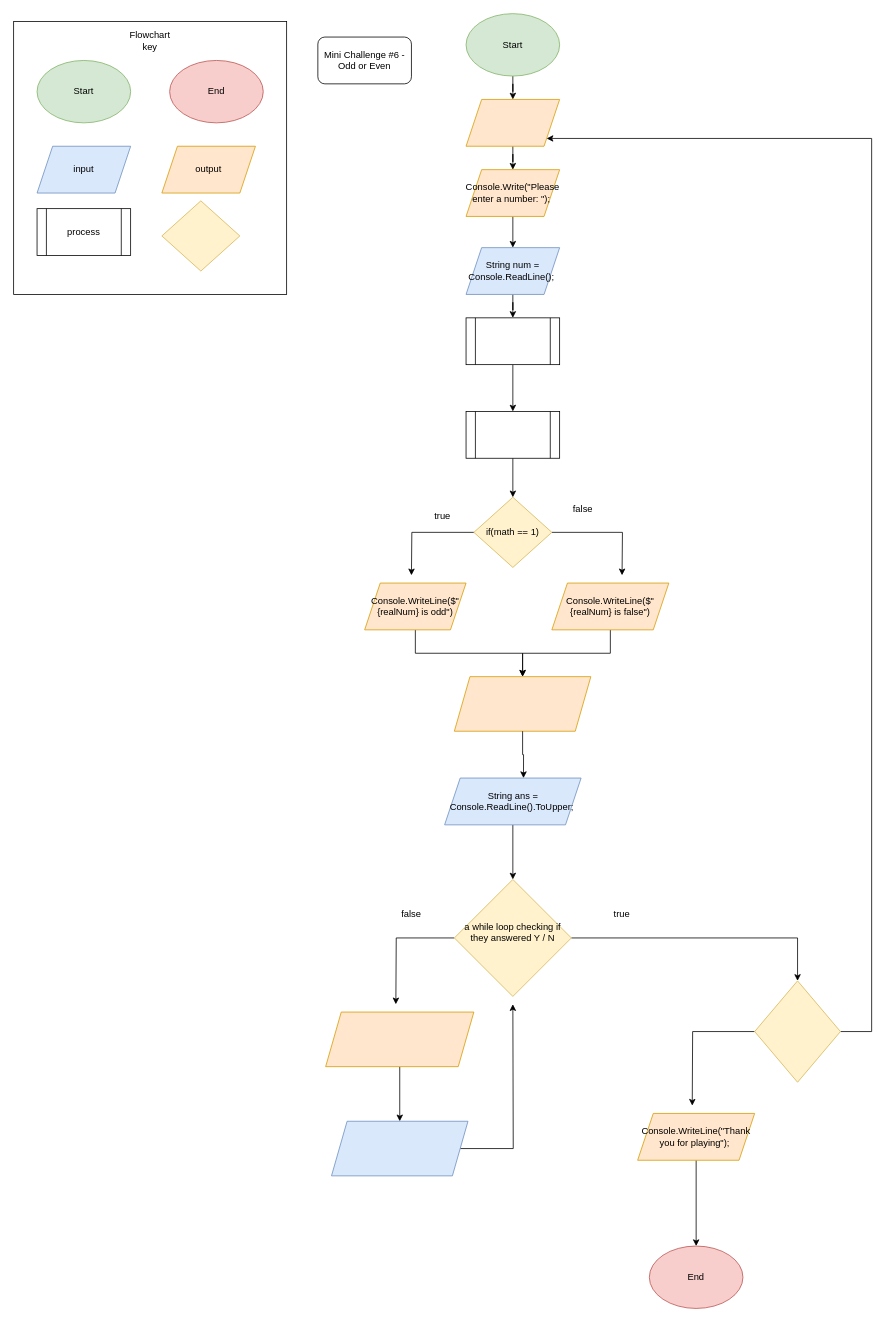
This 892x1322 diagram has some shape labels left out. Here are the shapes that lost their labels. From the top down, the centre of each, then its label:
pixel 512 122: Console.WriteLine("Welcome to odd or even");
pixel 200 235: Decision
pixel 512 341: int realNum = Convert.ToInt32(num);
pixel 512 434: int math = realNum % 2;
pixel 522 703: Console.WriteLine("Do you want to play again? Y / N")
pixel 399 1039: Console.WriteLine("Invalid input. Please answer Y / N")
pixel 797 1031: a do while loop checks if ans == Y
pixel 399 1148: ans = Console.ReadLine().ToUpper;
